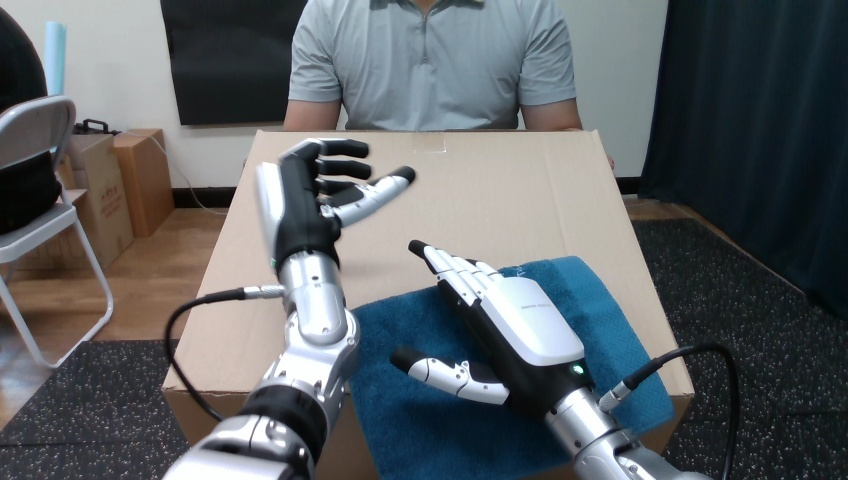left robot arm: (164, 138, 415, 479), (391, 240, 738, 479)
left robot hand: (164, 138, 415, 479), (390, 240, 738, 479)
right robot arm: (164, 138, 415, 479), (390, 240, 738, 479)
right robot hand: (164, 138, 415, 479), (390, 240, 738, 479)
